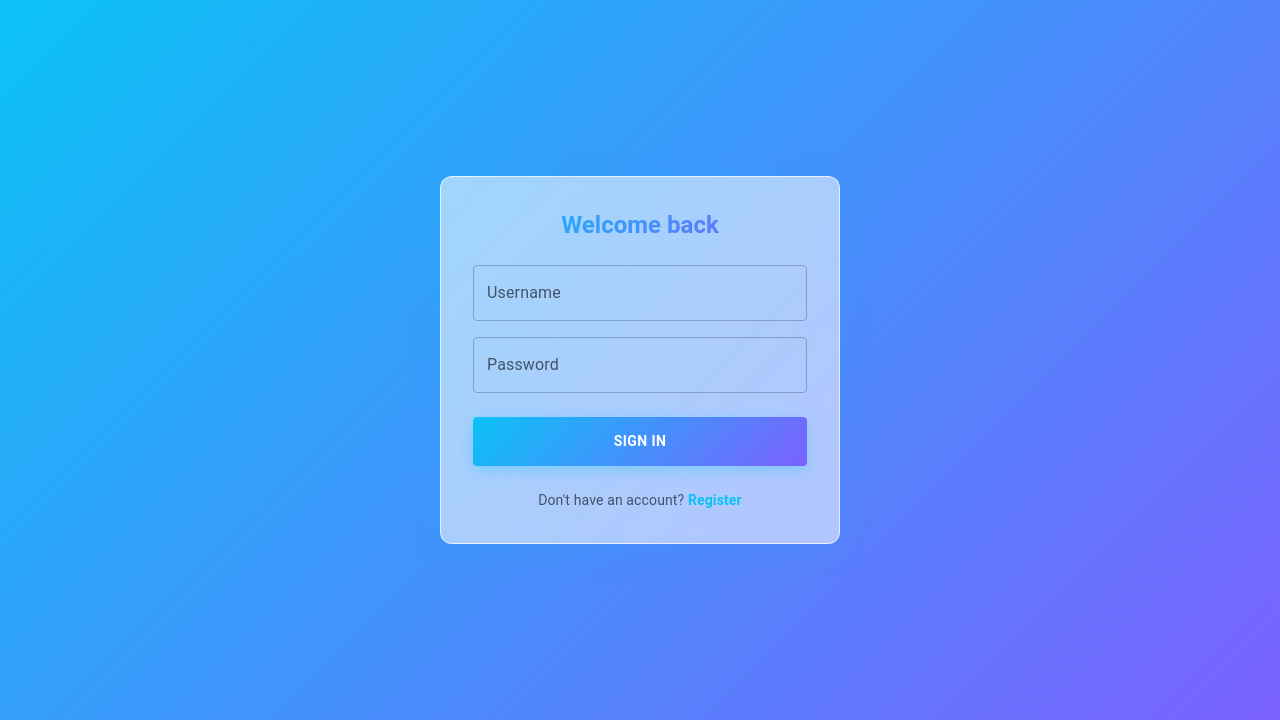
Login › shows non_field_errors without key prefix
In the field with test id "login-username": (640,293) [473,265,807,321], type "wrong"
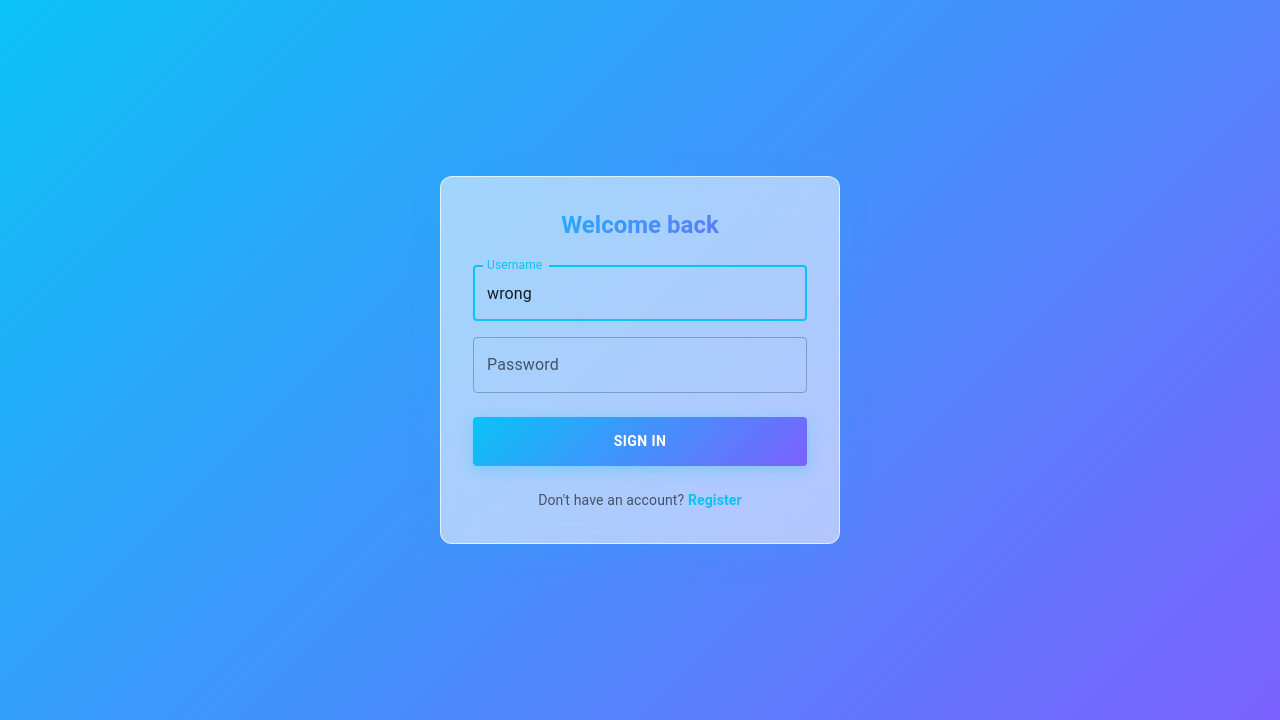
In the password field with test id "login-password": (640,365) [473,337,807,393], type "wrong"
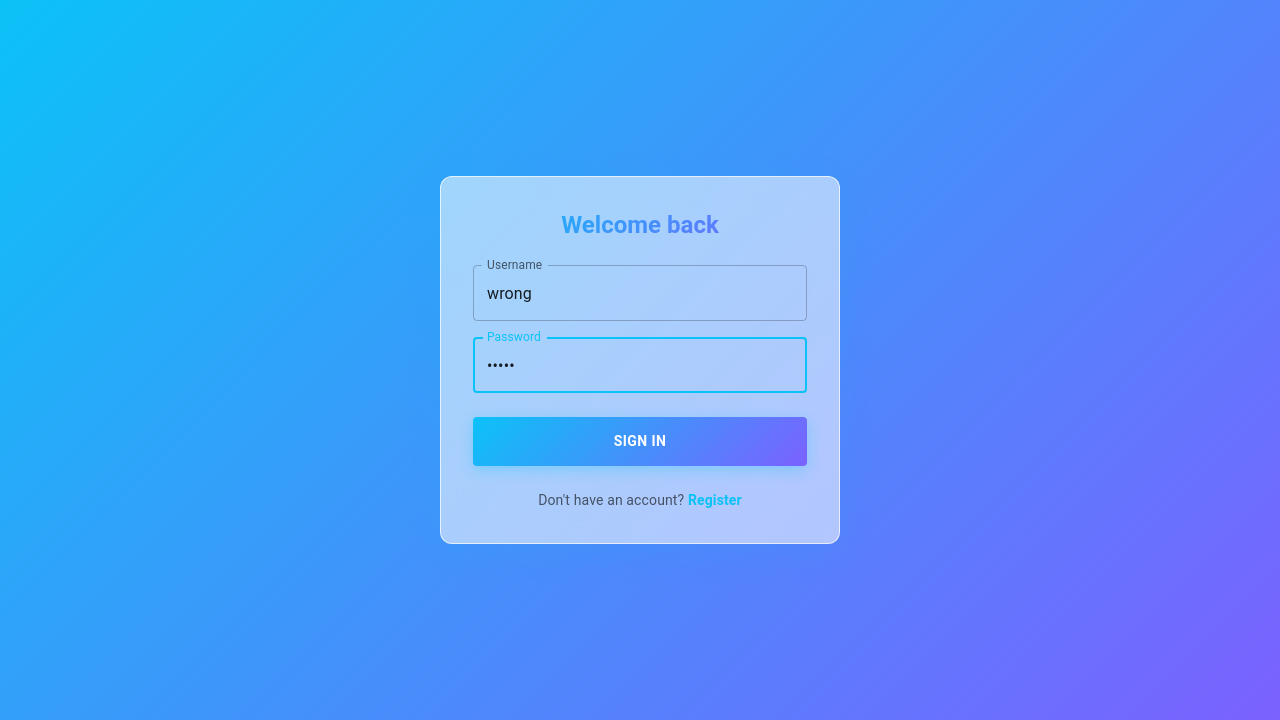
Click the button with test id "login-submit": (640,442) [473,417,807,466]
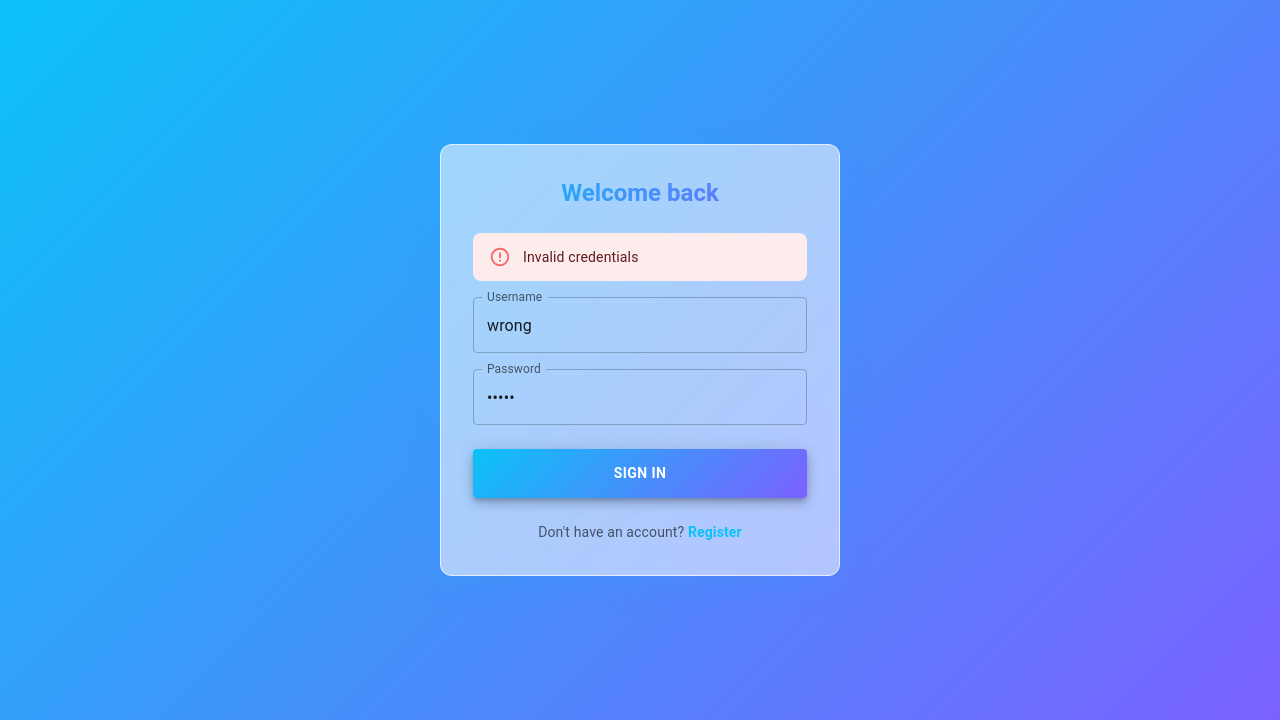
expect the element with test id "login-error" does not show "non_field_errors": met, box [473,233,807,281]
expect the element with test id "login-error" is shown: met, box [473,233,807,281]
expect the element with test id "login-error" reads "Invalid credentials": met, box [523,249,638,265]
